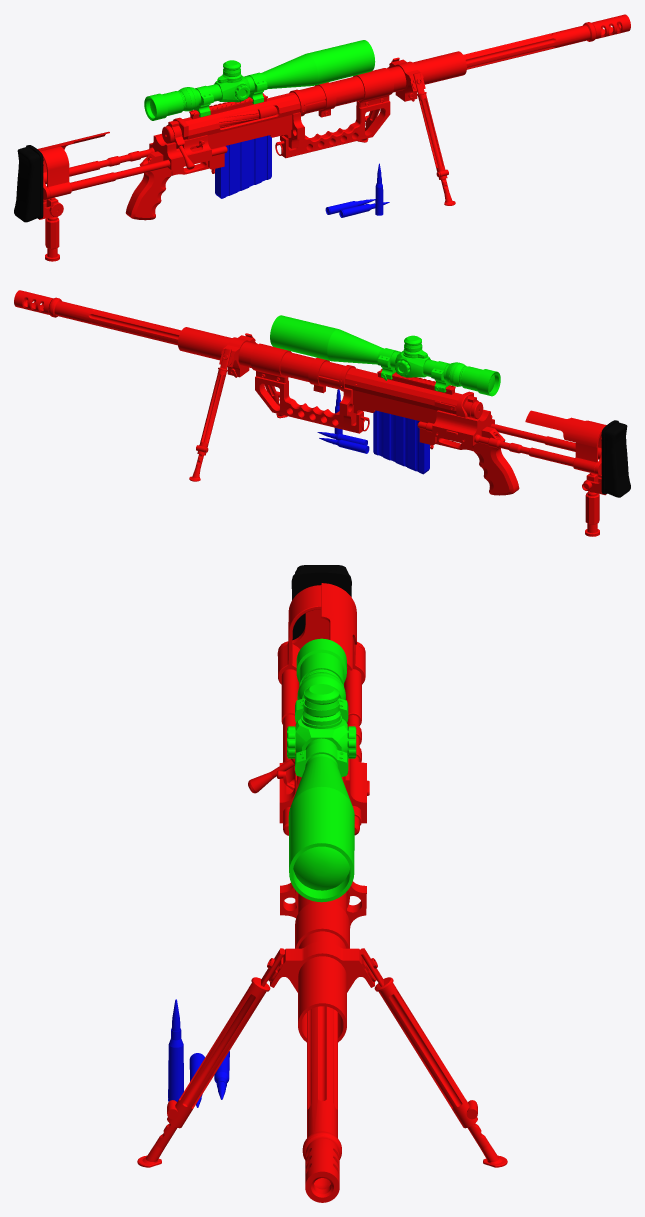
The picture shows the model from 3 angles, top to bottom: view 1: azimuth 30°, elevation 25°; view 2: azimuth 150°, elevation 25°; view 3: azimuth 270°, elevation 25°; orthographic projection. The views are drawn at different scales.
Parts seen in each view (by area): view 1: gun, optics, magaz; view 2: gun, optics, magaz; view 3: gun, optics, magaz.
Part boxes in pixels (box(x1,y1,x2,y2)): gun: box(14, 14, 630, 261); optics: box(144, 40, 375, 120); magaz: box(215, 135, 389, 217); gun: box(14, 290, 630, 536); optics: box(270, 315, 500, 396); magaz: box(317, 389, 429, 474); gun: box(137, 565, 507, 1202); optics: box(287, 638, 356, 902); magaz: box(168, 999, 229, 1107).
Bounding box in the file's own units: 137 × 32.59 × 36.08.
